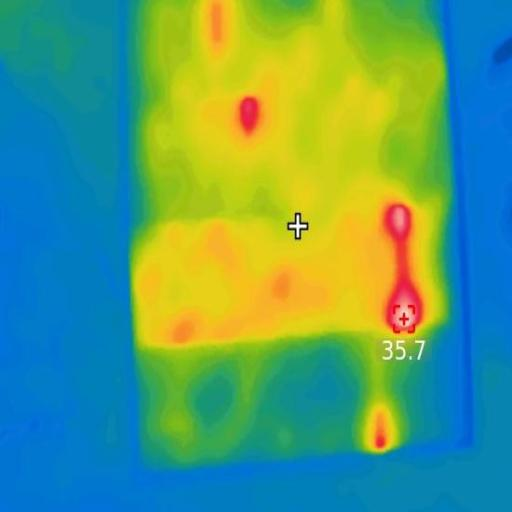hotspot: (382, 276, 426, 335), (383, 204, 416, 258), (239, 92, 261, 136), (371, 422, 391, 452)
